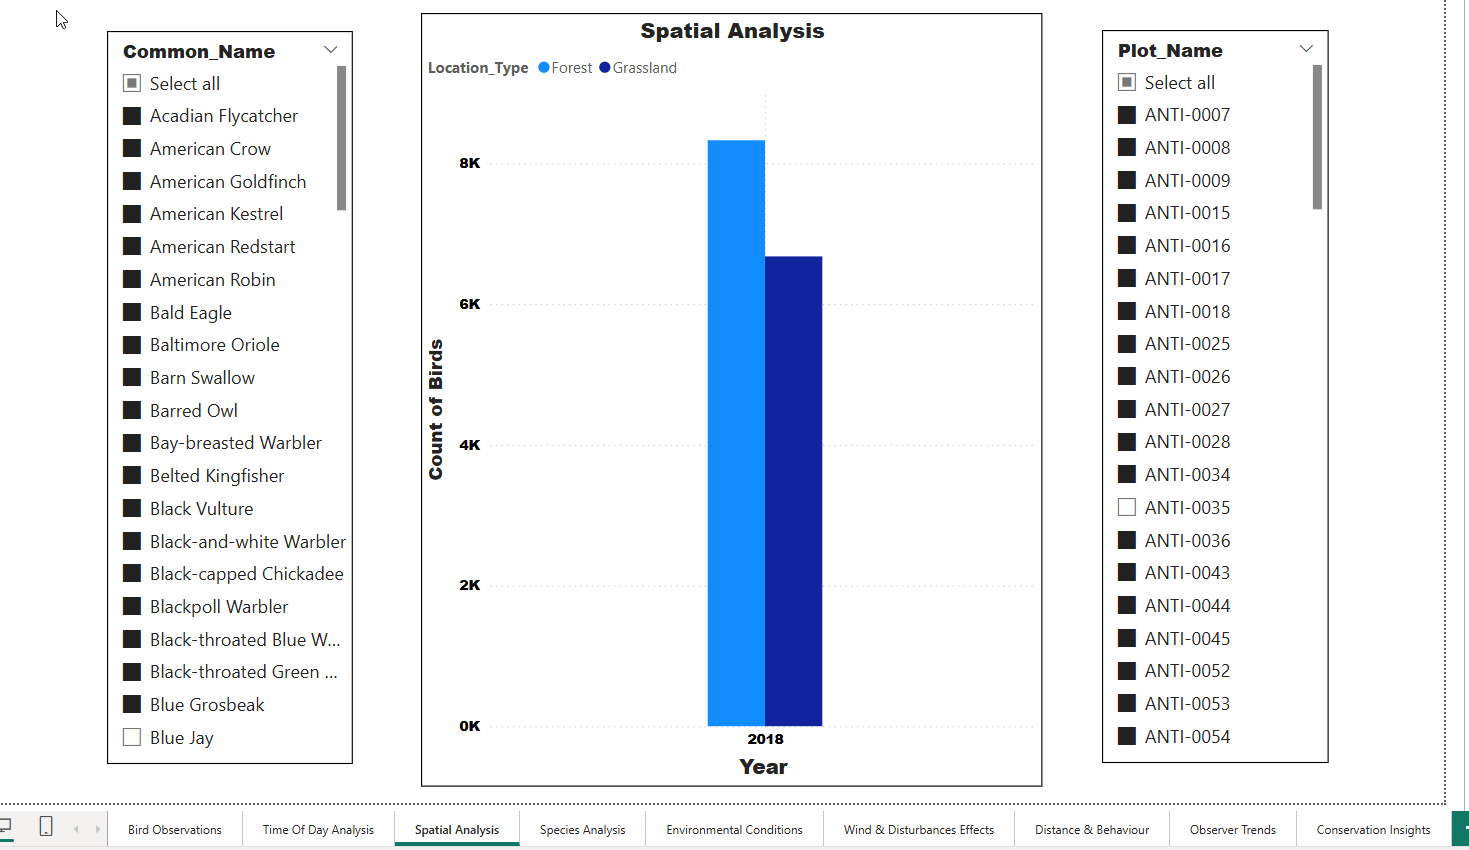

The page's visual inventory and layout, read from the dashboard file:
{"tool":"powerbi","page":{"name":"Spatial Analysis","canvas":[1280,720],"ordinal":2},"visuals":[{"type":"clusteredColumnChart","title":"Spatial Analysis ","fields":{"Category":["All_Bird_Observations.Date.Variation.Date Hierarchy.Year","All_Bird_Observations.Date.Variation.Date Hierarchy.Quarter","All_Bird_Observations.Date.Variation.Date Hierarchy.Month","All_Bird_Observations.Date.Variation.Date Hierarchy.Day"],"Y":["CountNonNull(All_Bird_Observations.Observation_ID)"],"Series":["All_Bird_Observations.Location_Type"]},"box":[373,19.7,550.6,685.7],"z":0},{"type":"slicer","fields":{"Values":["All_Bird_Observations.Common_Name"]},"box":[94.5,35.3,218.2,650.4],"z":1000},{"type":"slicer","fields":{"Values":["All_Bird_Observations.Plot_Name"]},"box":[977.2,35,200.8,650.5],"z":2000}]}

Visuals, with their boxes in screenshot pixels (x1, y1, x2, y2):
"Spatial Analysis " clusteredColumnChart: select_region(418, 7, 1041, 783)
slicer - All_Bird_Observations.Common_Name: select_region(103, 25, 350, 761)
slicer - All_Bird_Observations.Plot_Name: select_region(1102, 24, 1329, 761)
